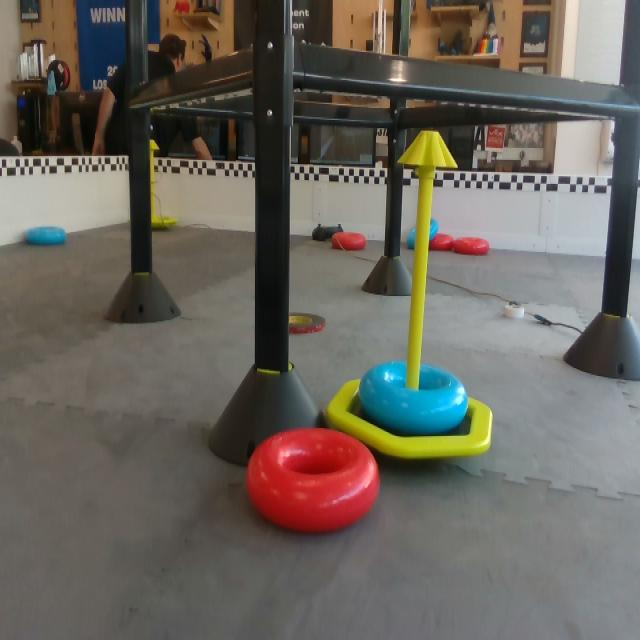Blue-Ring: (359, 361, 470, 430), (22, 226, 67, 246)
Mobile-Goal: (327, 128, 495, 461), (150, 139, 178, 227)
Red-Ring: (248, 425, 381, 535), (452, 235, 491, 258), (329, 229, 368, 251), (430, 234, 455, 250)
Yellow-Stake-Head: (397, 130, 458, 168), (150, 140, 160, 150)
